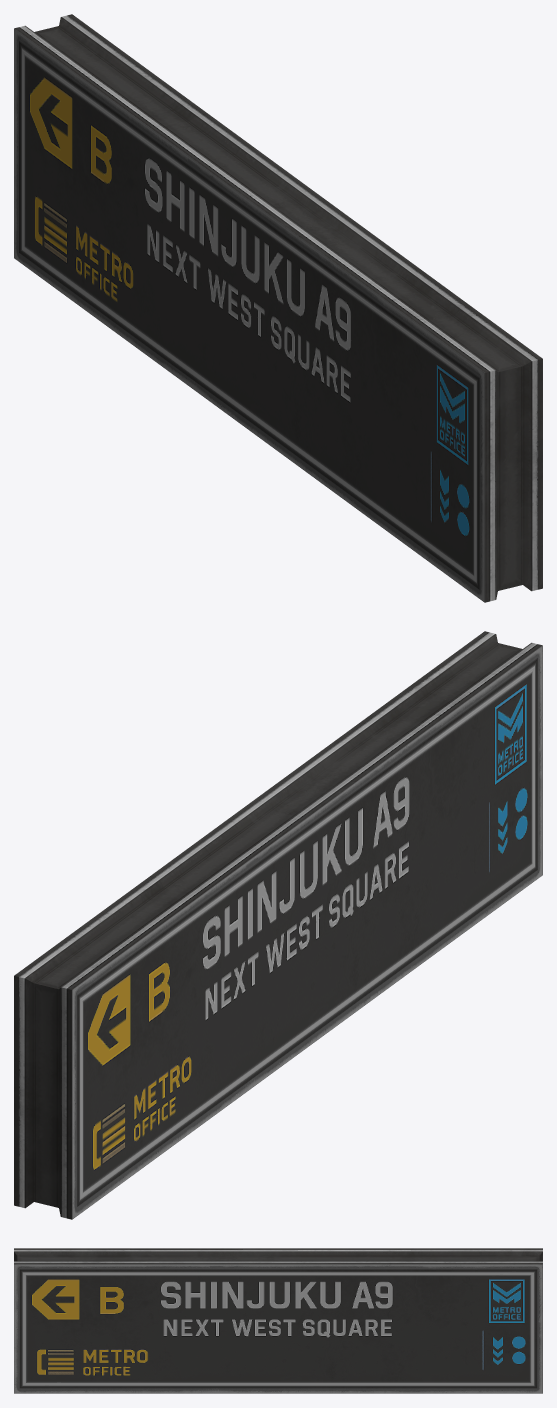
Rendered from CP_Metro_Signage_02.fbx.
3 views of the same model, one above another, from view 1: azimuth 30°, elevation 25°; view 2: azimuth 150°, elevation 25°; view 3: azimuth 270°, elevation 25° (orthographic). The views are drawn at different scales.
Visible parts, largest first — view 1: CP_Metro_Signage_02; view 2: CP_Metro_Signage_02; view 3: CP_Metro_Signage_02.
Part boxes in pixels (<box>): CP_Metro_Signage_02: <box>14,14,542,602</box>; CP_Metro_Signage_02: <box>14,631,542,1219</box>; CP_Metro_Signage_02: <box>14,1248,542,1393</box>.
Bounding box in the file's own units: 23.43 × 88.33 × 328.
